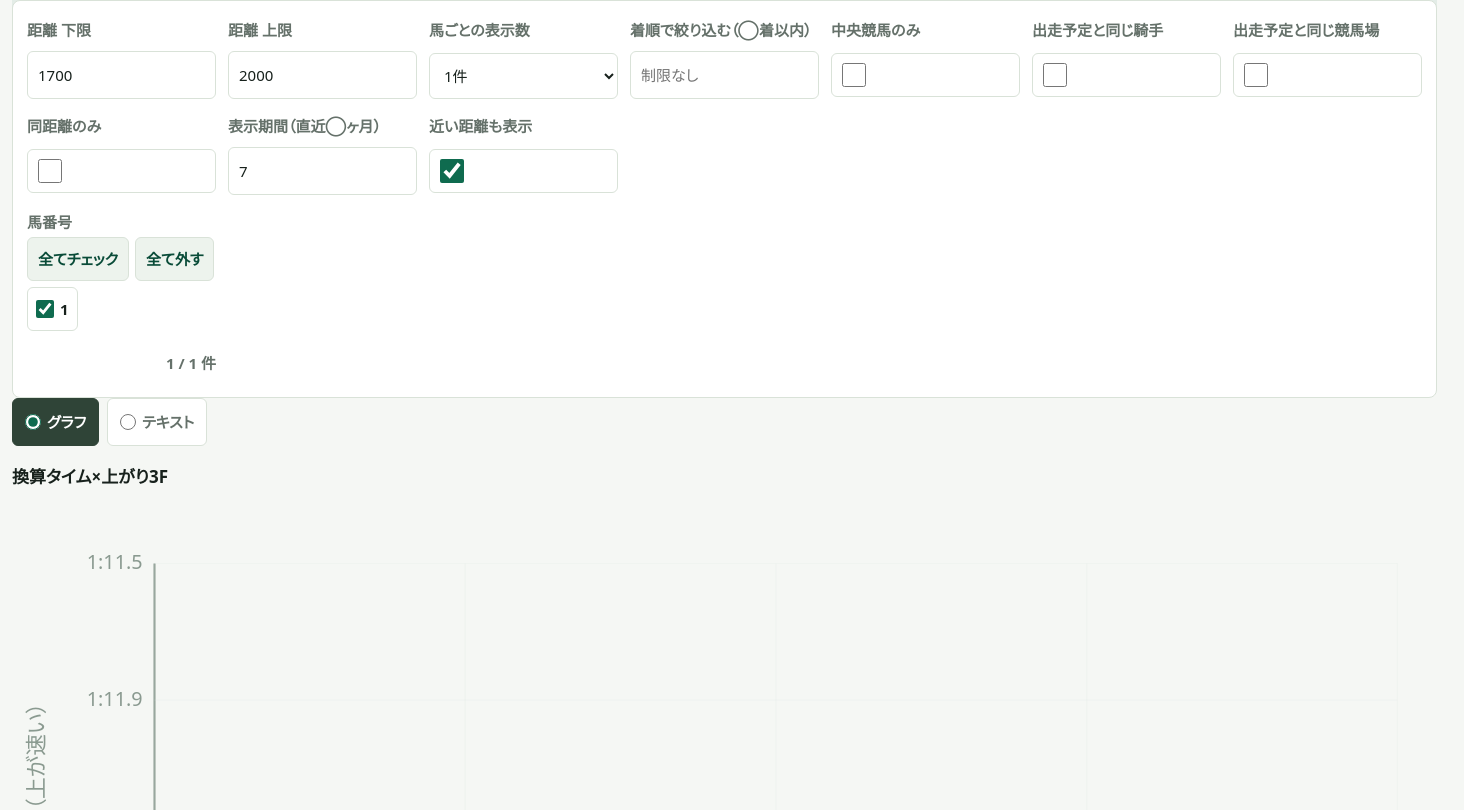
Test: horse race results table › disables the finish rank filter when it alone removes all rows
Click the radio button labelled "テキスト": (128, 422) [120, 414, 136, 430]
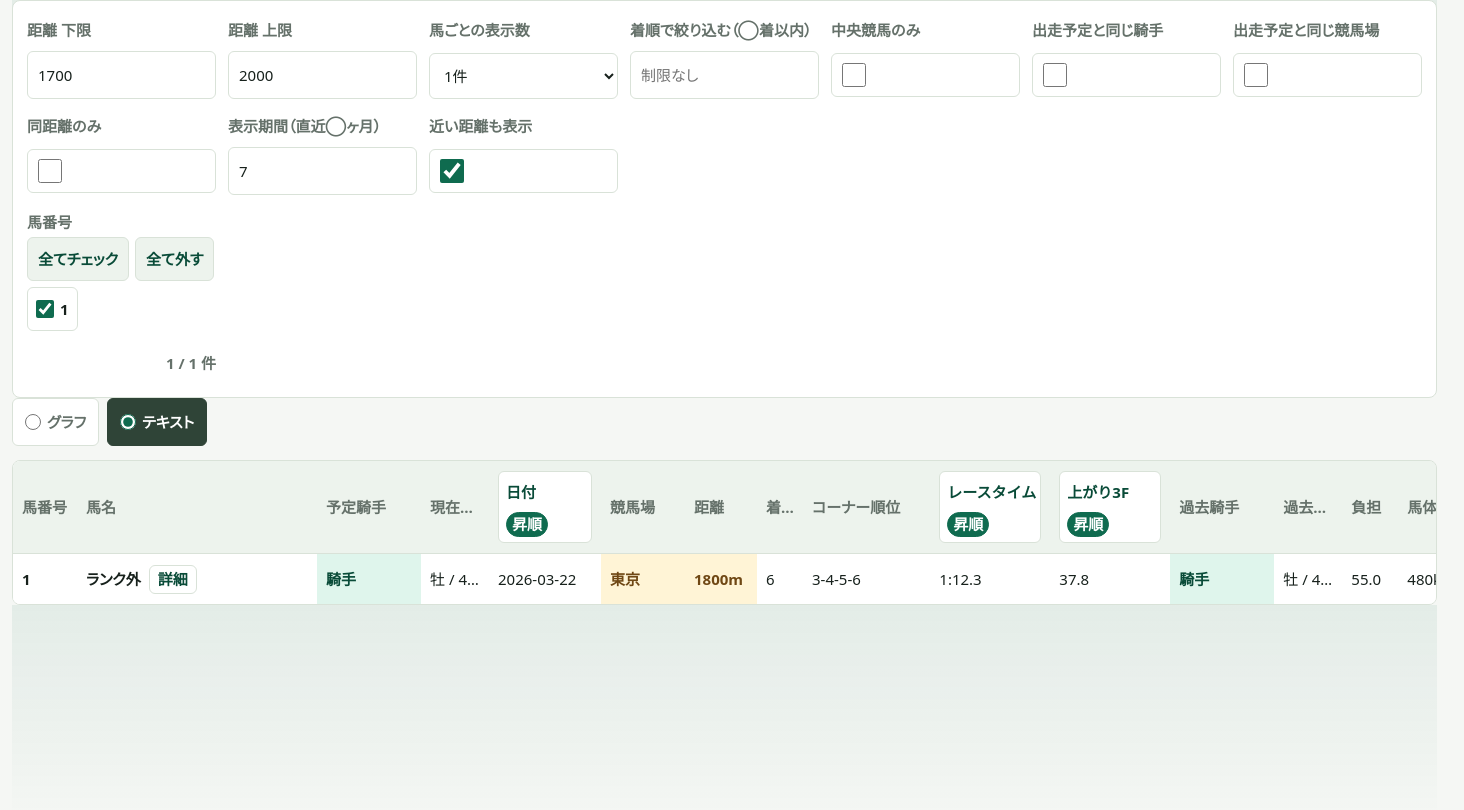
Result: the text "ランク外" is shown at [86, 564, 141, 594]
